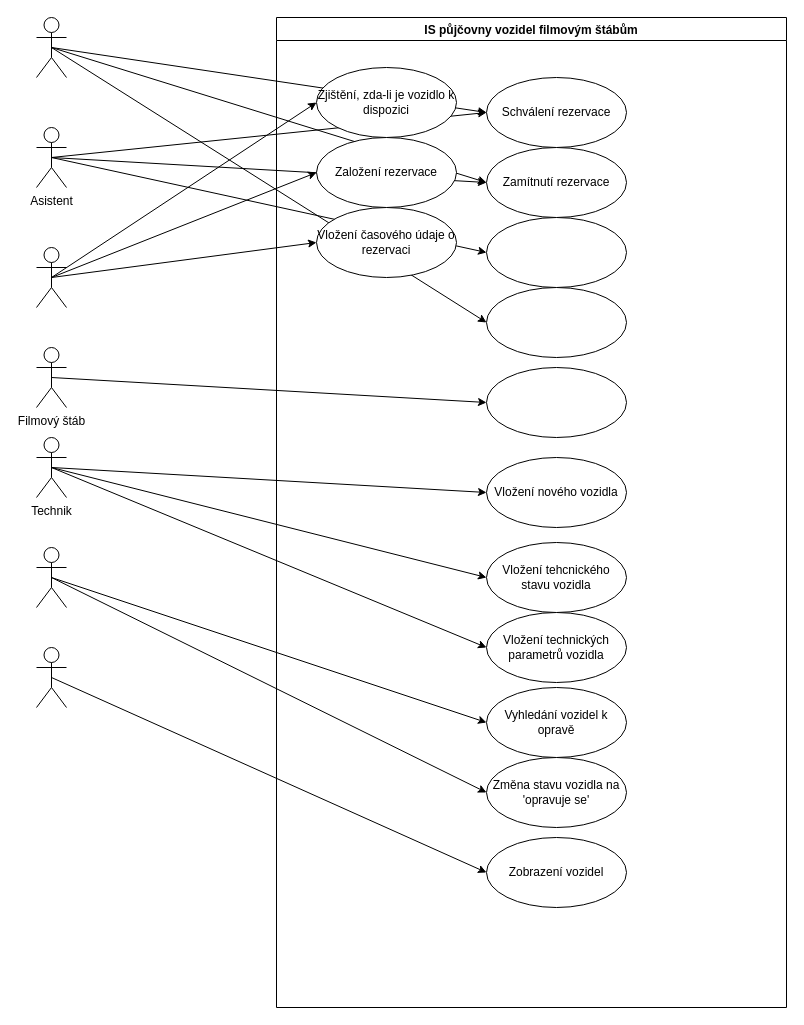
This 804x1025 diagram has some shape labels left out. The shapes that lost their labels are listed below. From the top down, each one's box as (x1, y1, x2, y2) in pixels, then its label:
(36, 16, 66, 78): Majitel
(486, 216, 626, 288): Ukončení výpůjčky
(36, 246, 66, 308): Recepční
(486, 286, 626, 358): Schválení zápůjčky ostatním zájemcům
(486, 366, 626, 438): Zažádat o rezervaci
(36, 546, 66, 608): Auto-opravář
(36, 646, 66, 708): Uživatel
